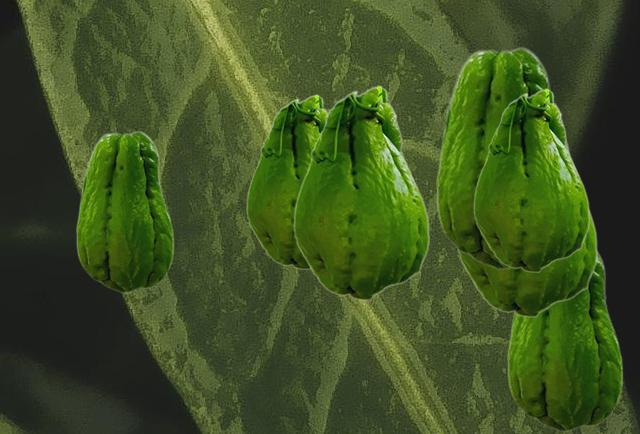sayote: (293, 85, 429, 300), (456, 119, 597, 317), (436, 46, 550, 269), (473, 88, 589, 272), (507, 250, 622, 431), (76, 130, 173, 292), (246, 94, 327, 269)
